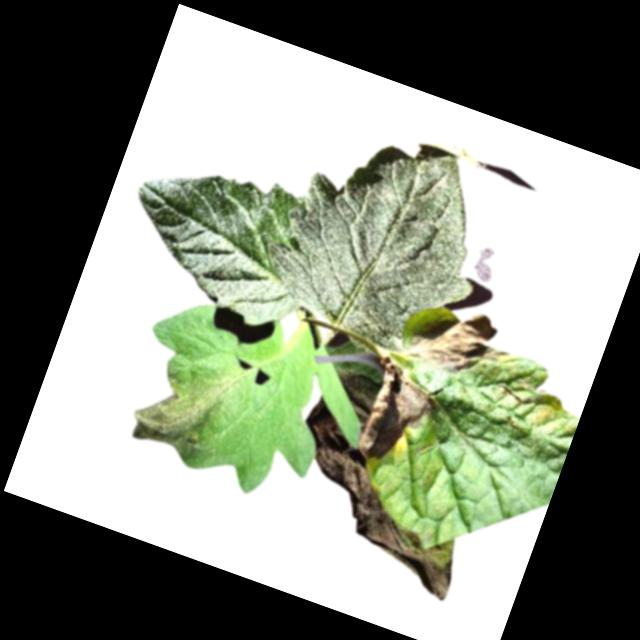Late_blight: (263, 392, 494, 602), (343, 353, 447, 484), (401, 292, 518, 393), (123, 361, 233, 466), (318, 364, 385, 435)
healthy: (247, 108, 511, 380), (106, 137, 335, 342)
